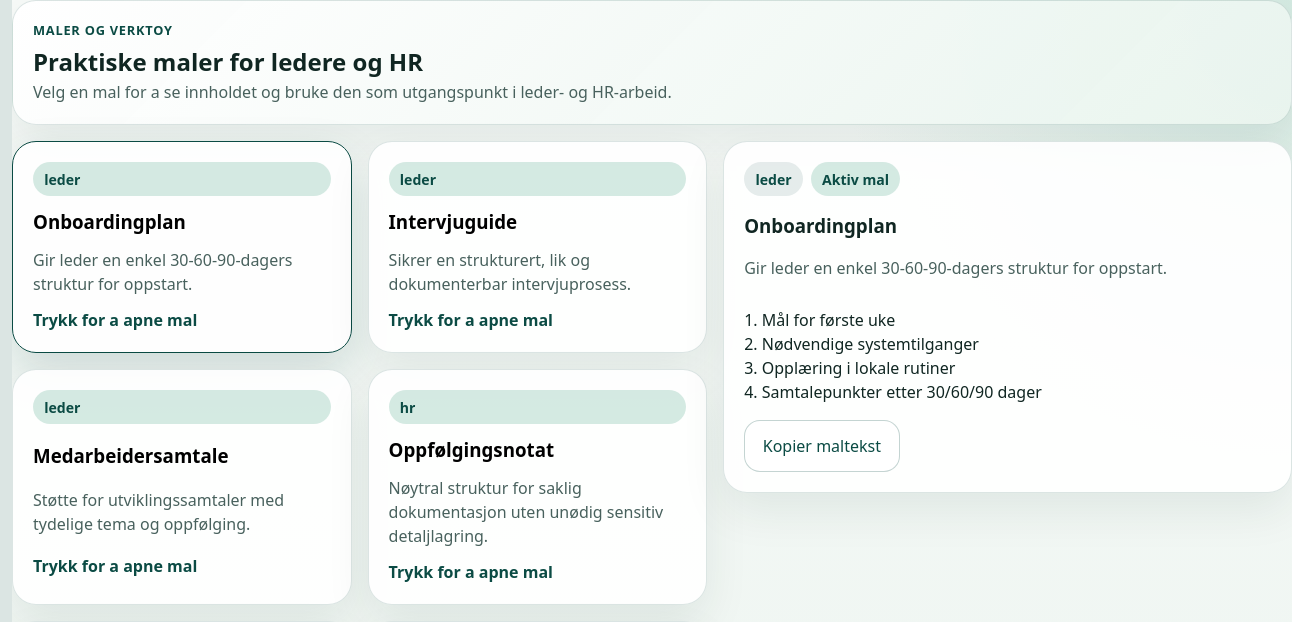
it: TemplatesWorkspacePage › shows the selected template when a card is pressed
The image size is (1292, 622).
Click the button "Intervjuguide" at [537, 247], box [368,141,707,353]
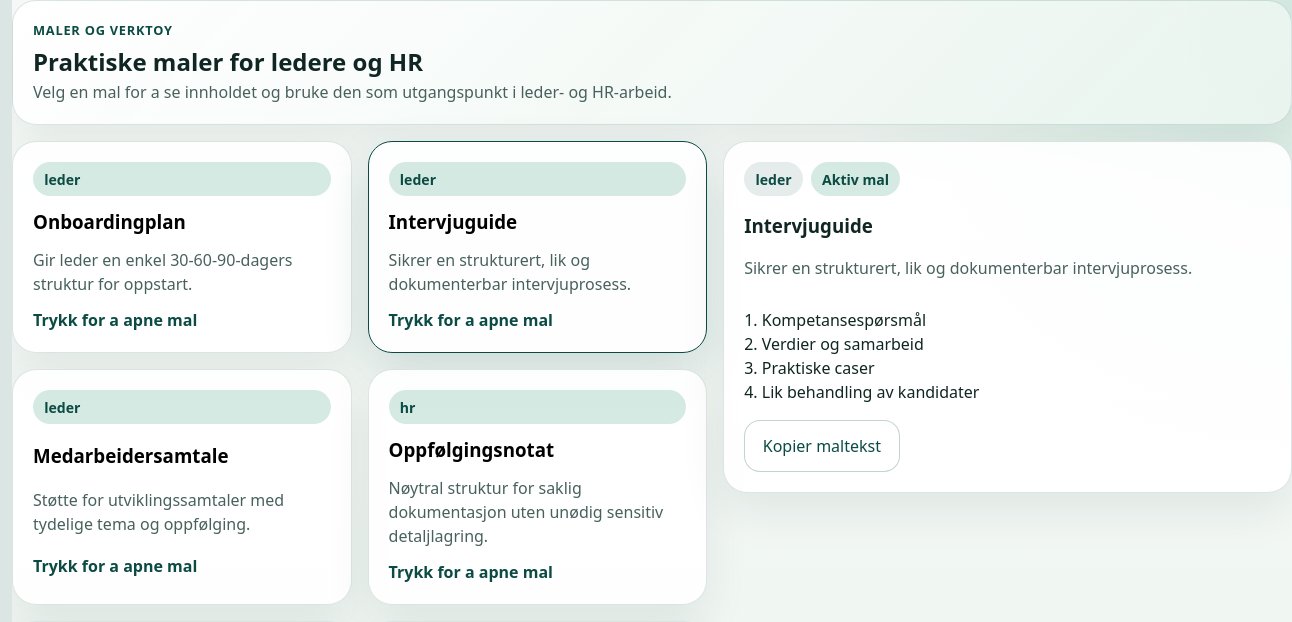
Expected: the 1st heading "Intervjuguide" is shown, [389,209,517,234]
Expected: the list item "Kompetansespørsmål" is shown, [762,309,926,331]
Expected: the list item "Lik behandling av kandidater" is shown, [762,381,980,403]
